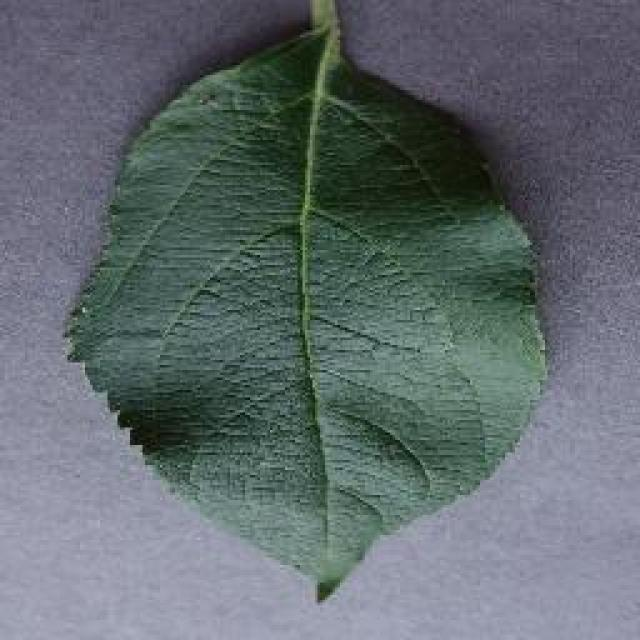apple healthy: (60, 5, 552, 603)
